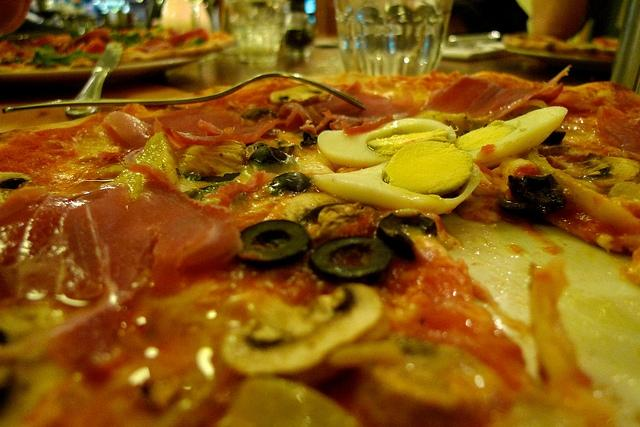mushroom: (222, 283, 384, 377), (326, 341, 502, 427), (214, 377, 358, 427), (178, 139, 245, 176), (140, 376, 184, 412), (268, 83, 328, 106), (572, 153, 610, 178), (1, 171, 32, 191)
